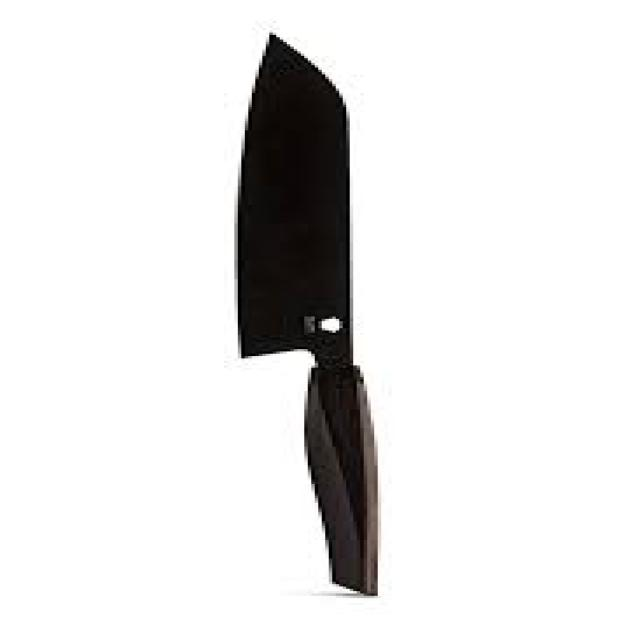Knife: (231, 31, 381, 594)
